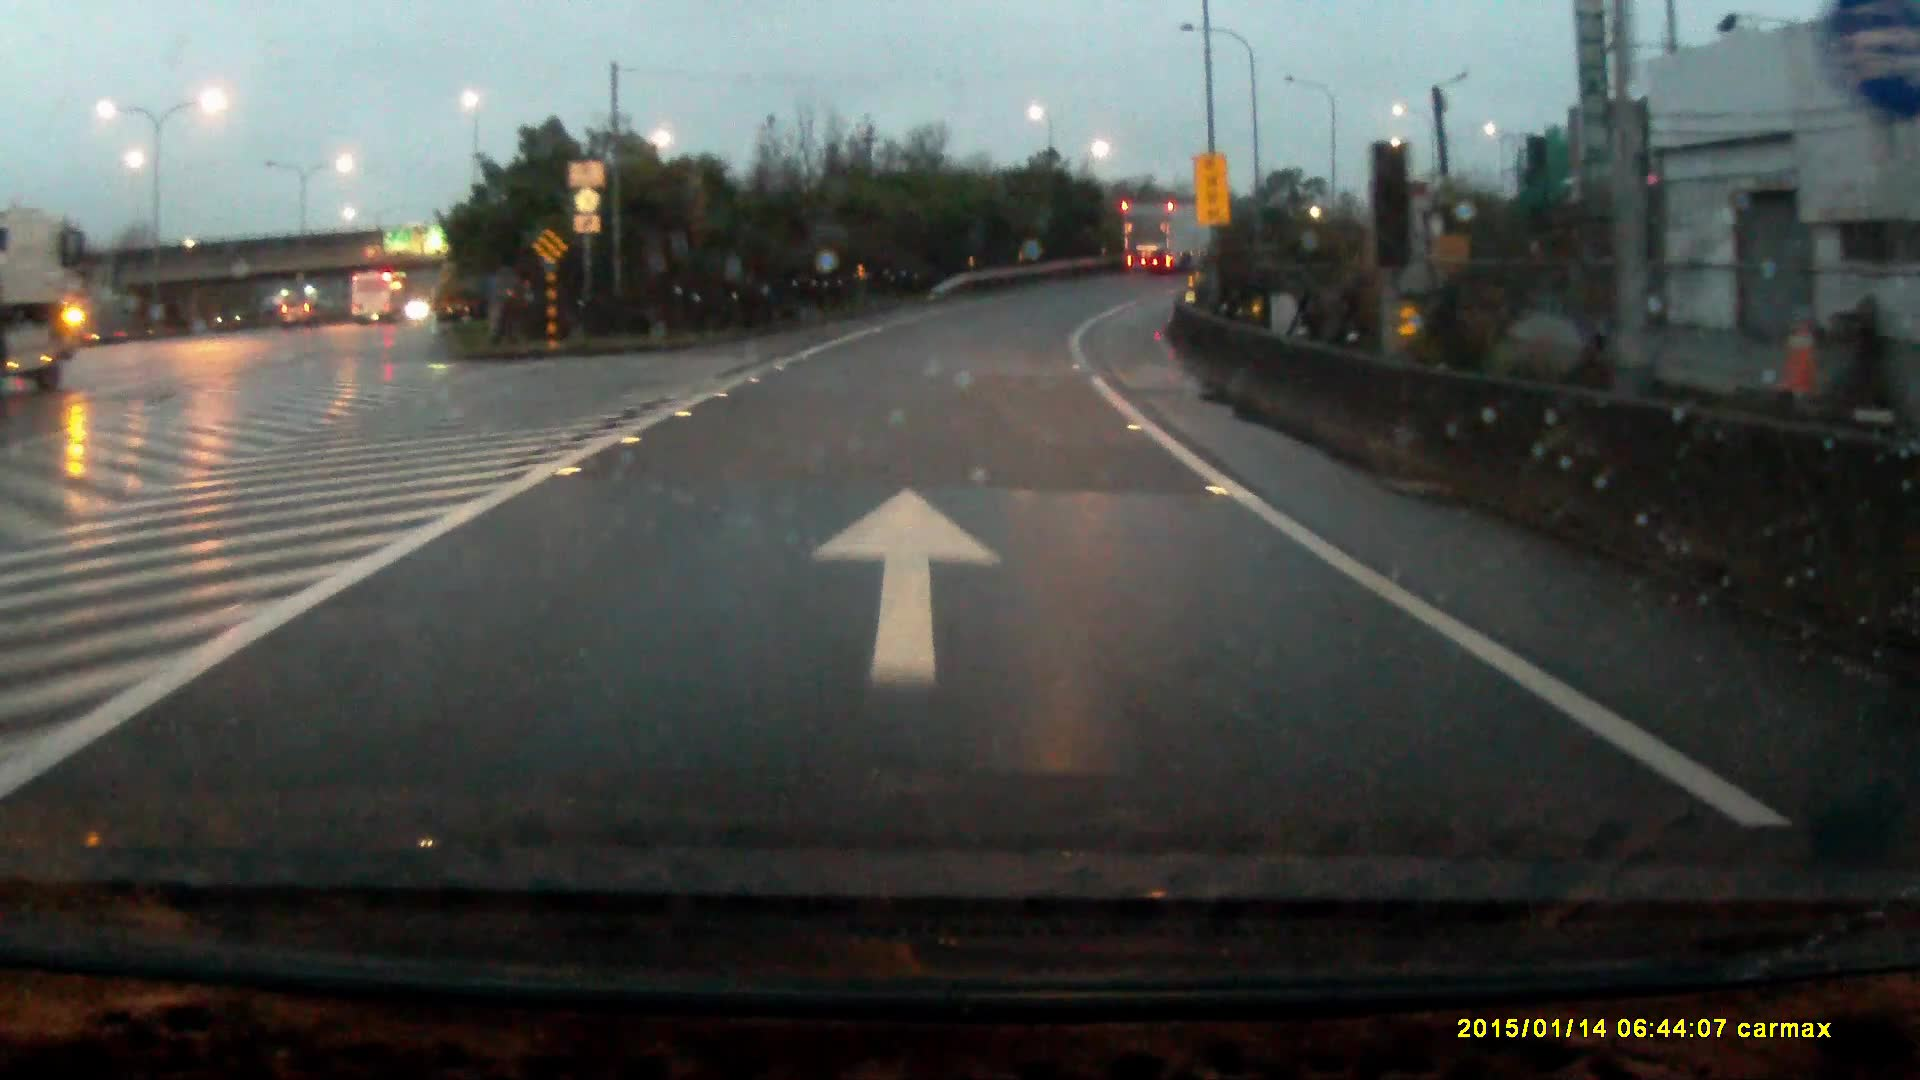vehicle: (1, 208, 98, 400), (1120, 203, 1221, 277), (349, 273, 409, 328), (282, 301, 315, 330)
